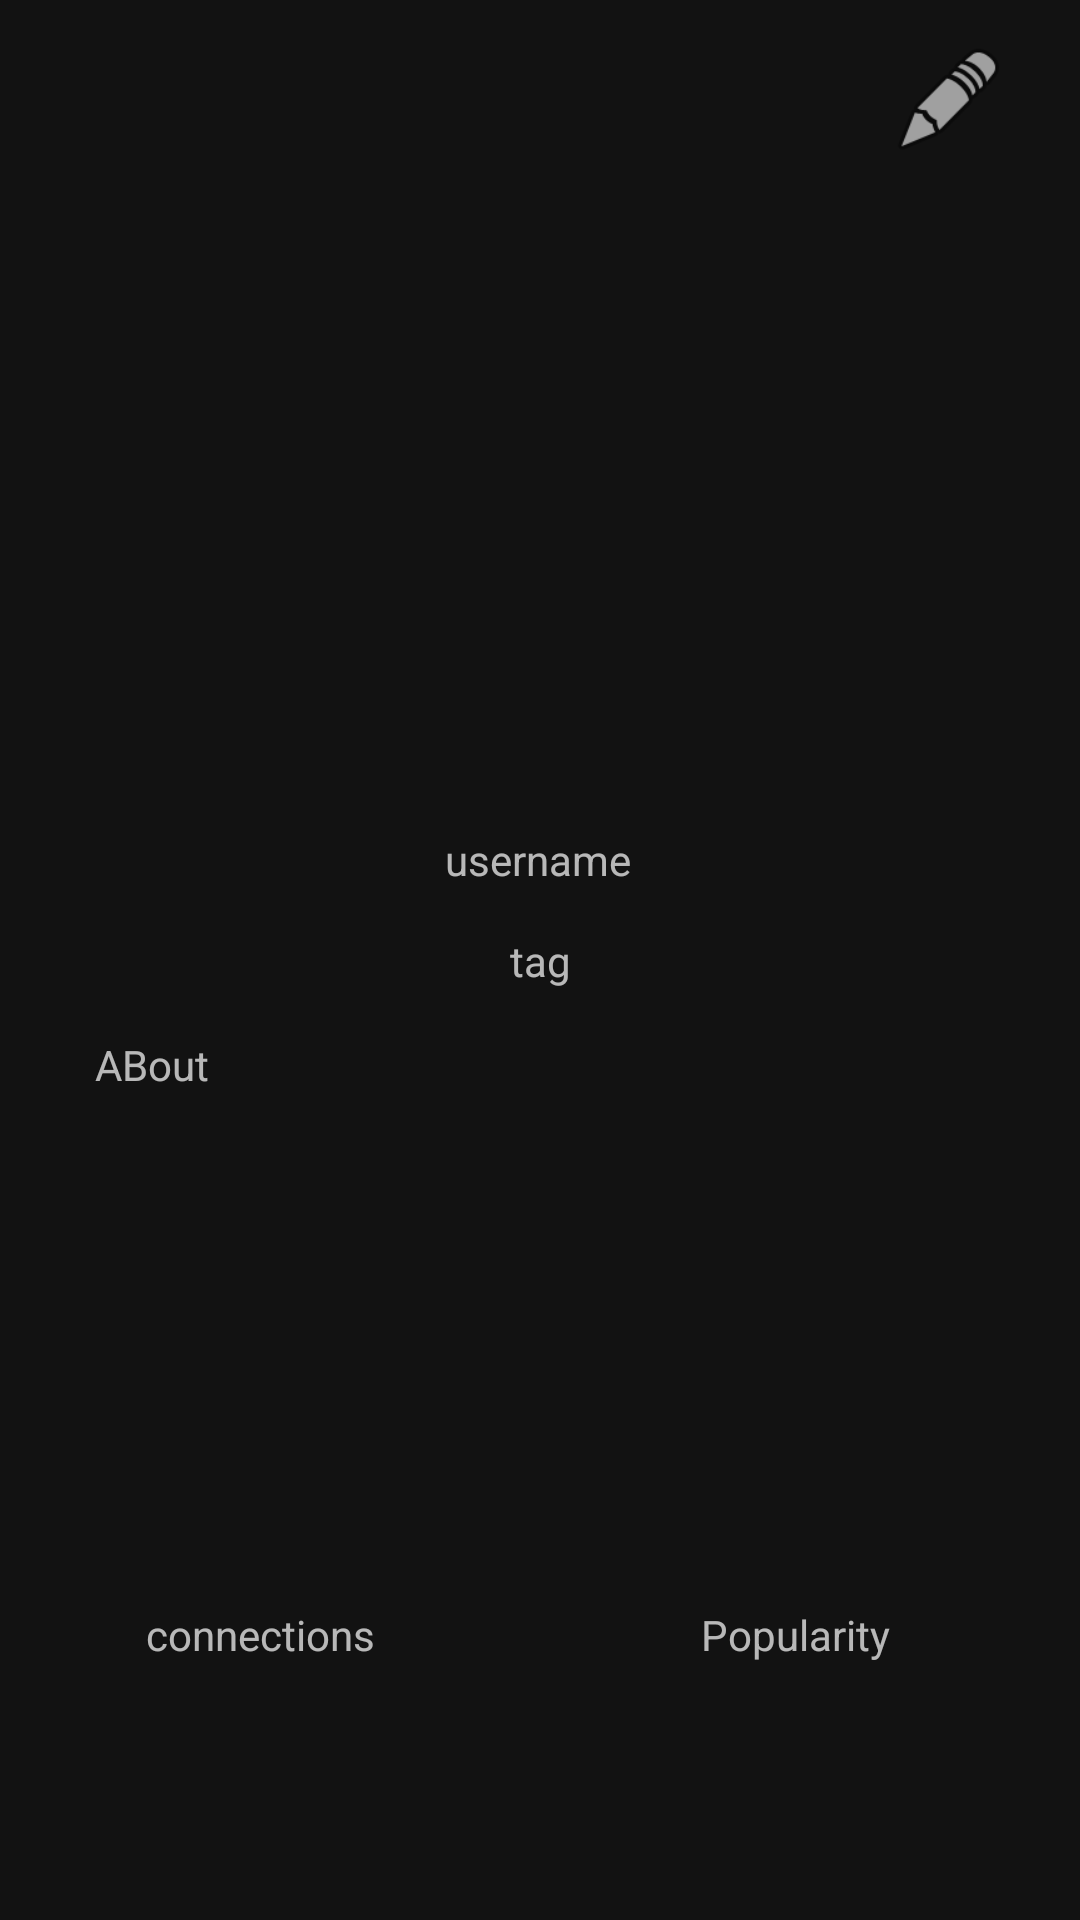

Where to tap for icons on this 1080*1920 app screen, as point (x, y):
edit: point (948, 99)
